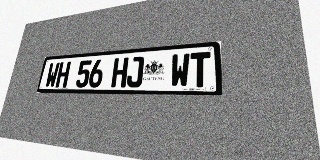5: (75, 60, 92, 87)
6: (88, 59, 105, 87)
H: (111, 57, 129, 87), (55, 61, 71, 88)
J: (126, 56, 144, 87)
T: (190, 51, 211, 87)
W: (170, 53, 190, 87), (44, 62, 60, 88)
